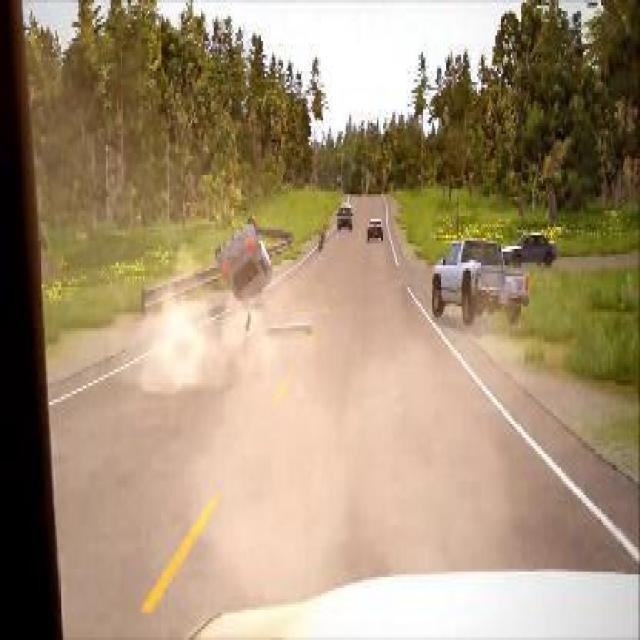accident: (212, 205, 278, 312)
